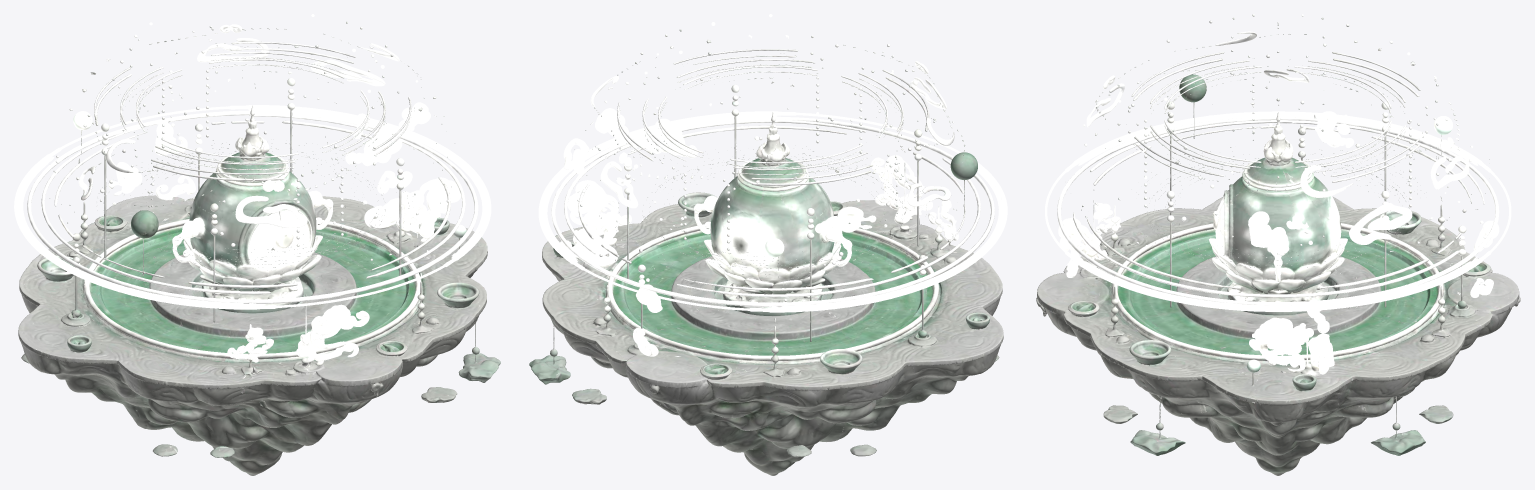
Rendered from house05.glb.
The picture shows the model from 3 angles, left to right: view 1: azimuth 30°, elevation 25°; view 2: azimuth 150°, elevation 25°; view 3: azimuth 270°, elevation 25°; orthographic projection.
Bounding box in the file's own units: 0.8432 × 0.7428 × 0.7971.
Materials: 2 (2 with a texture image).
